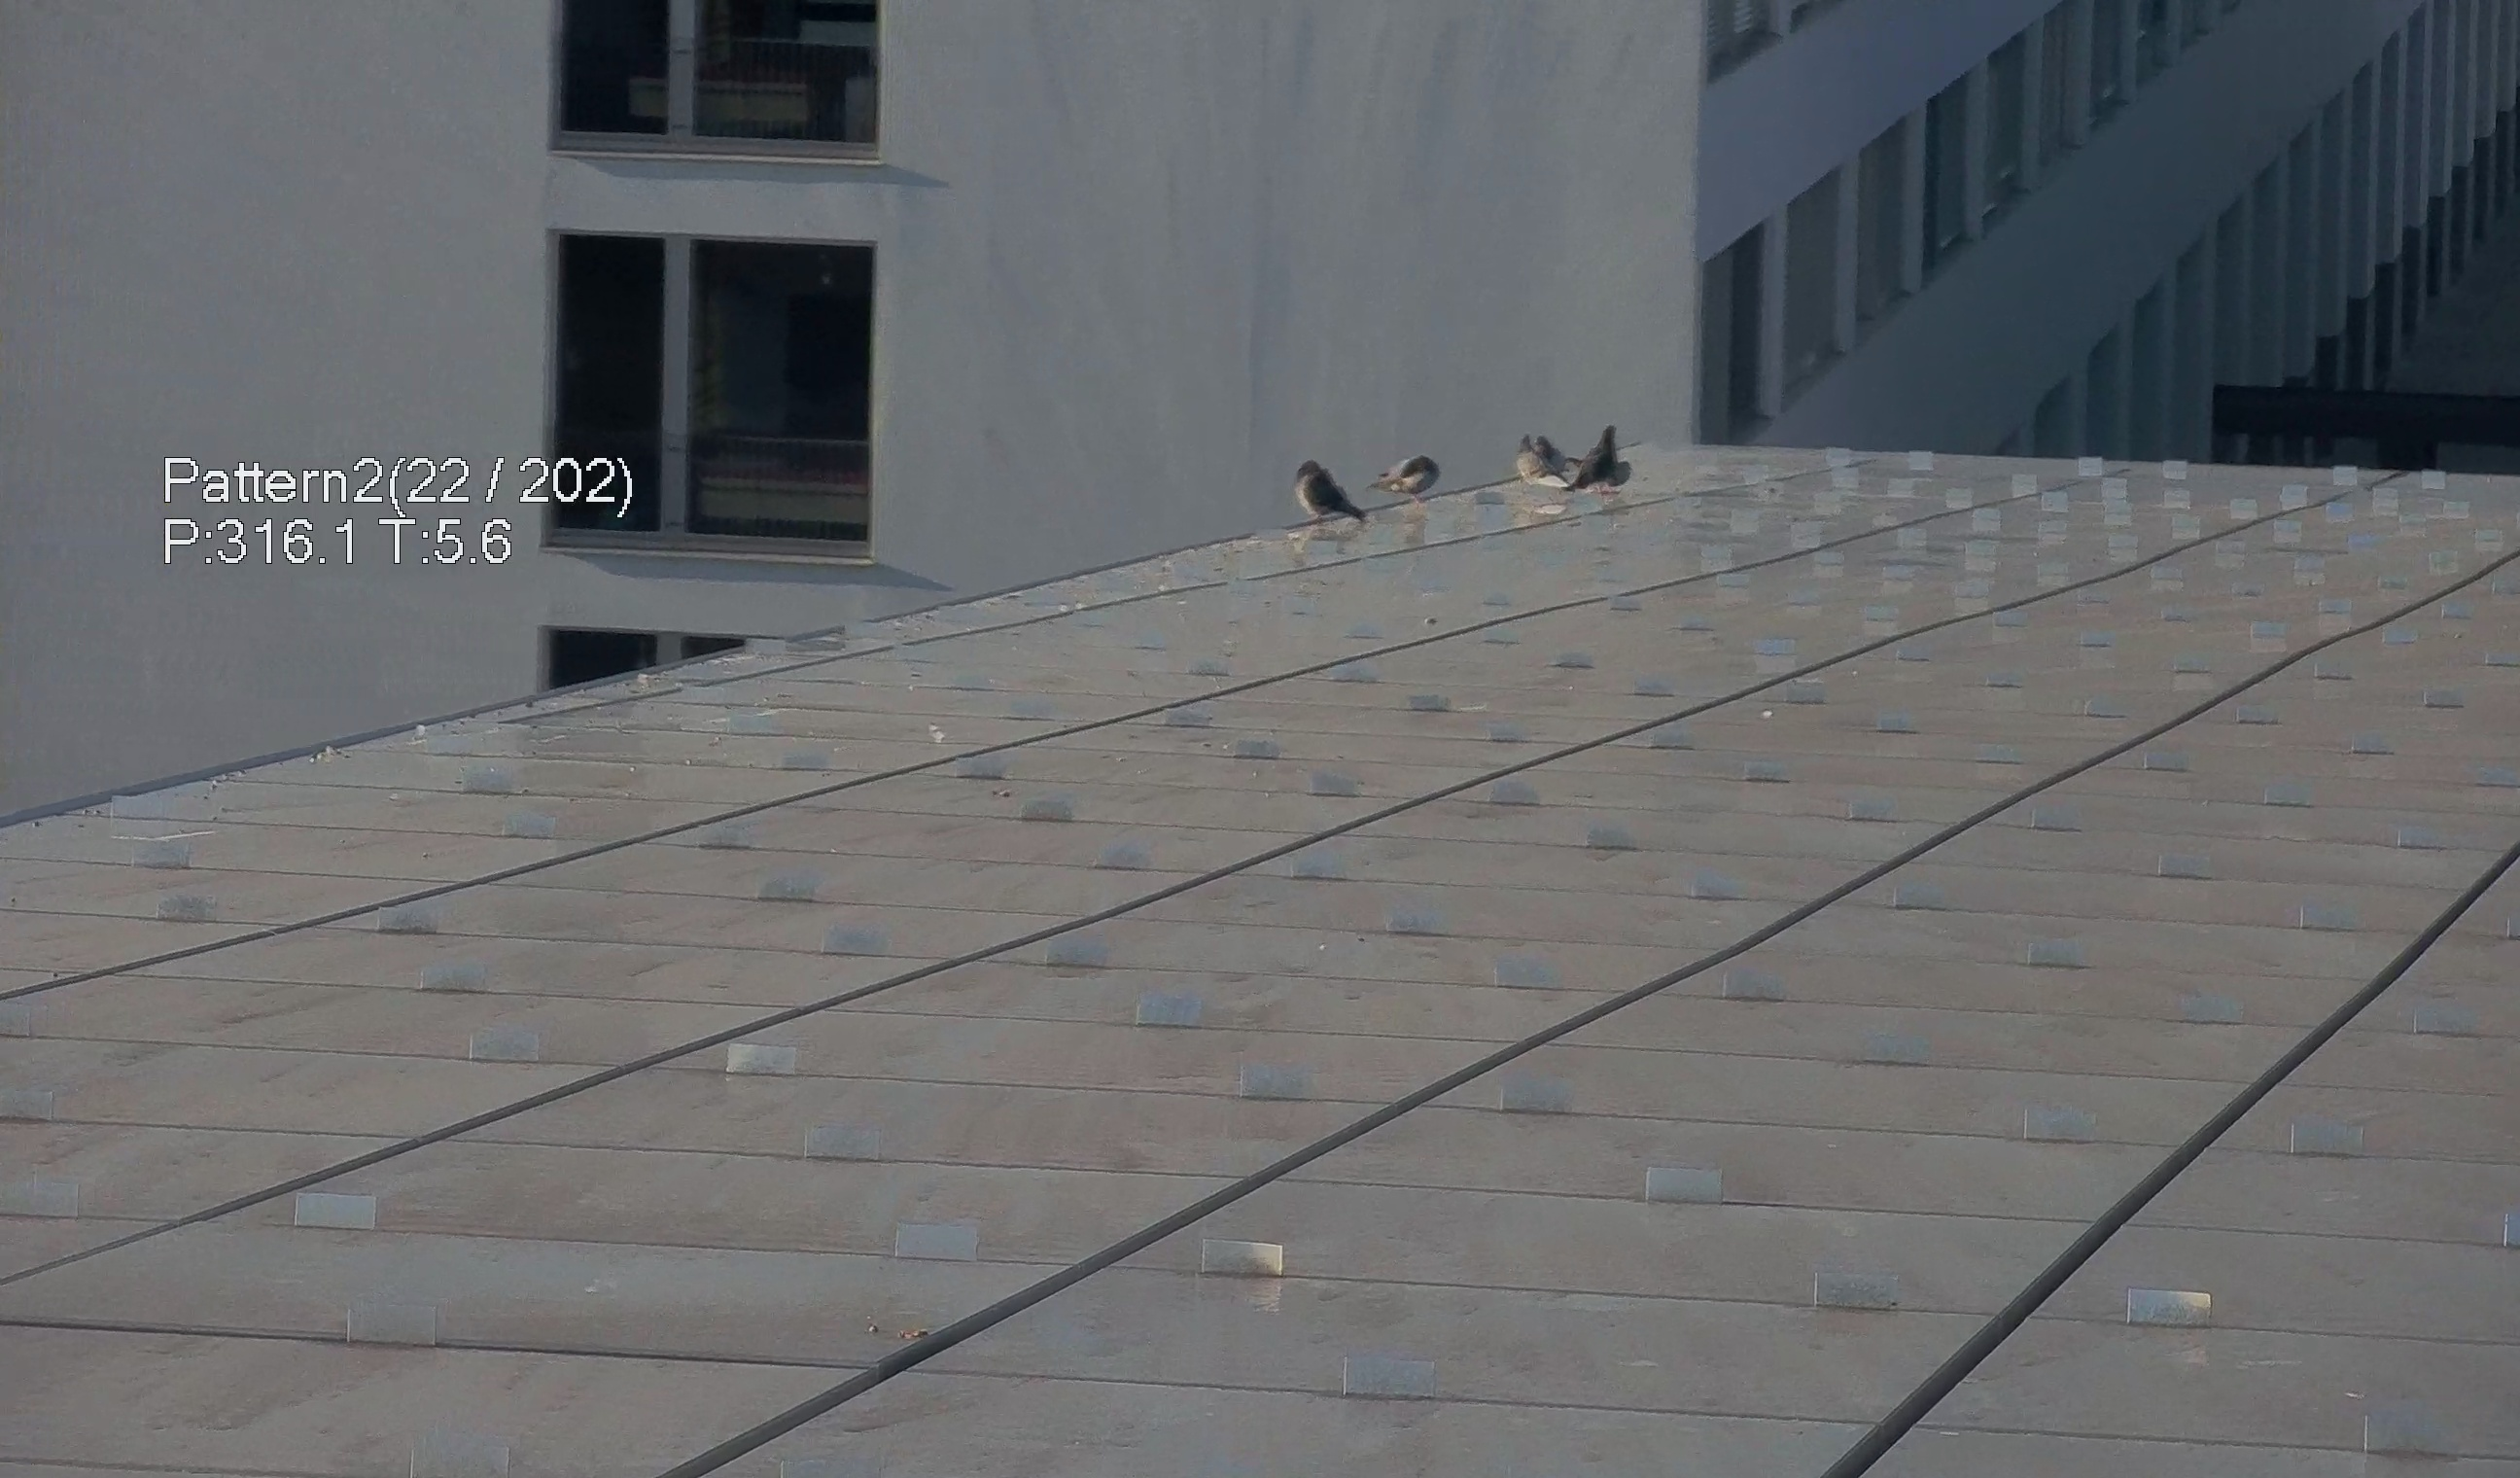Pigeon: (1282, 447, 1382, 531), (1562, 419, 1646, 500), (1356, 443, 1449, 501), (1512, 433, 1567, 487), (1533, 429, 1569, 473)
